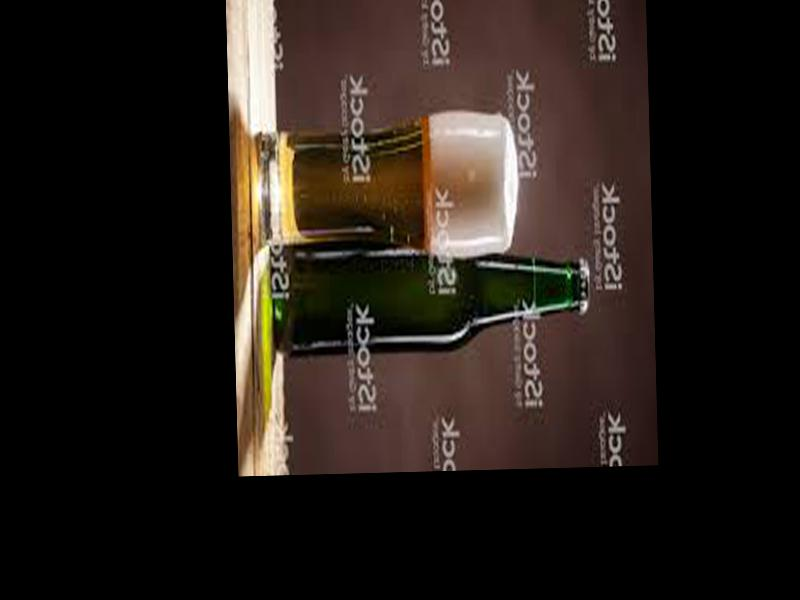Beer: (269, 233, 590, 358)
